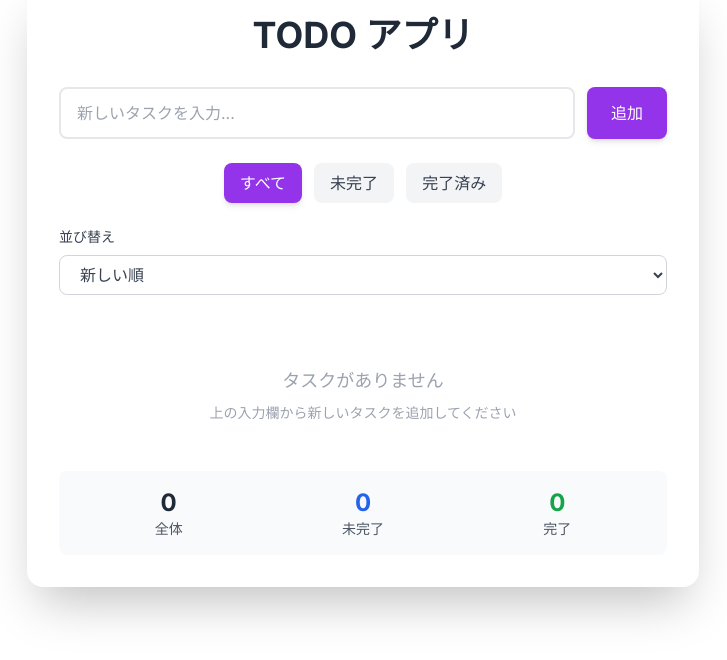
Test: TodoApp › should update stats when todos are added
In the field with placeholder "新しいタスクを入力...": (317, 113) [59,87,575,139], type "Task 1"
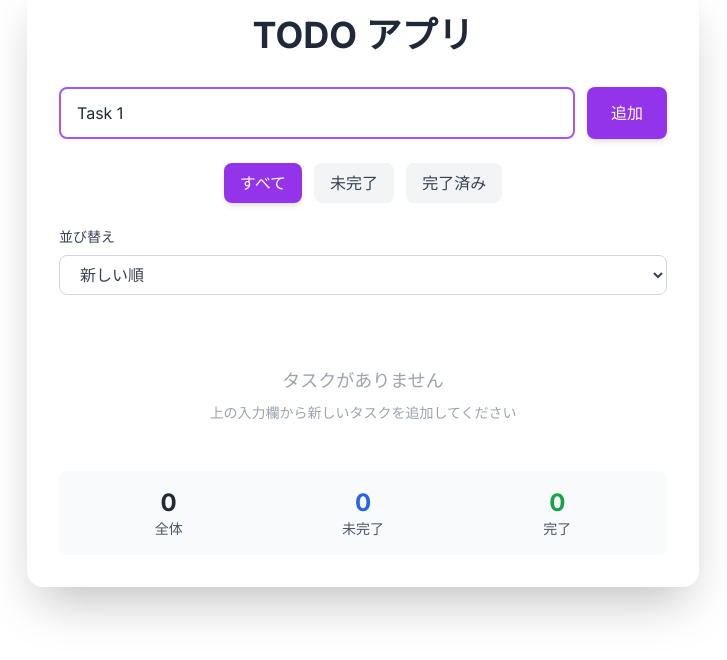
Click the button "追加": click(627, 113) [587,87,667,139]
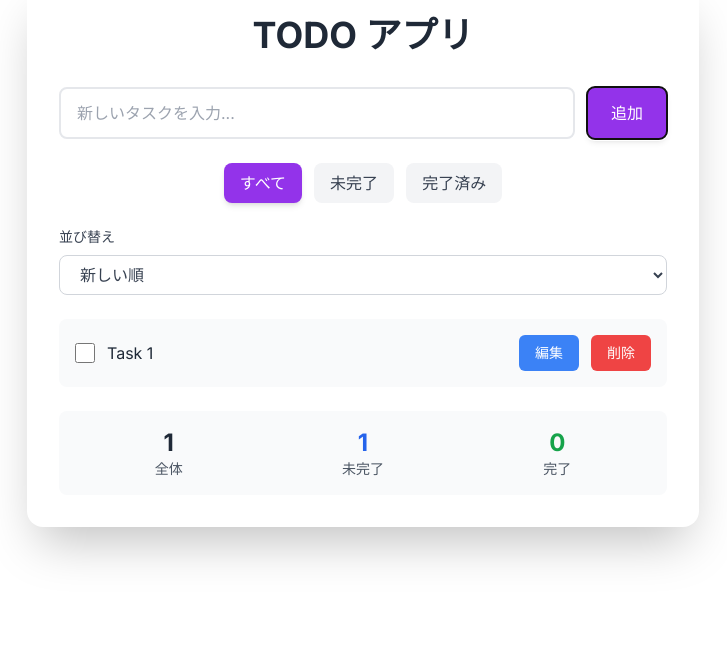
In the field with placeholder "新しいタスクを入力...": (317, 113) [59,87,575,139], type "Task 2"
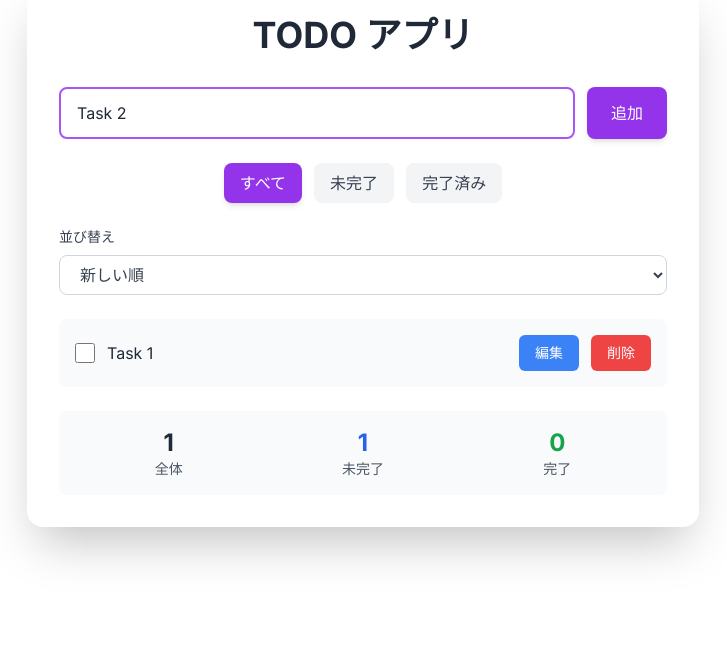
Click the button "追加": click(627, 113) [587,87,667,139]
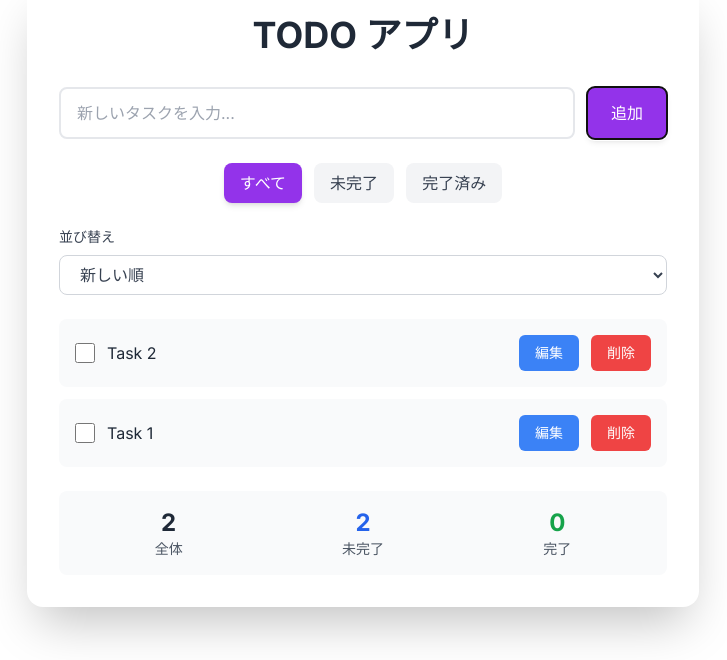
expect the 2nd text "2" is shown: met, box [355,508,370,537]
